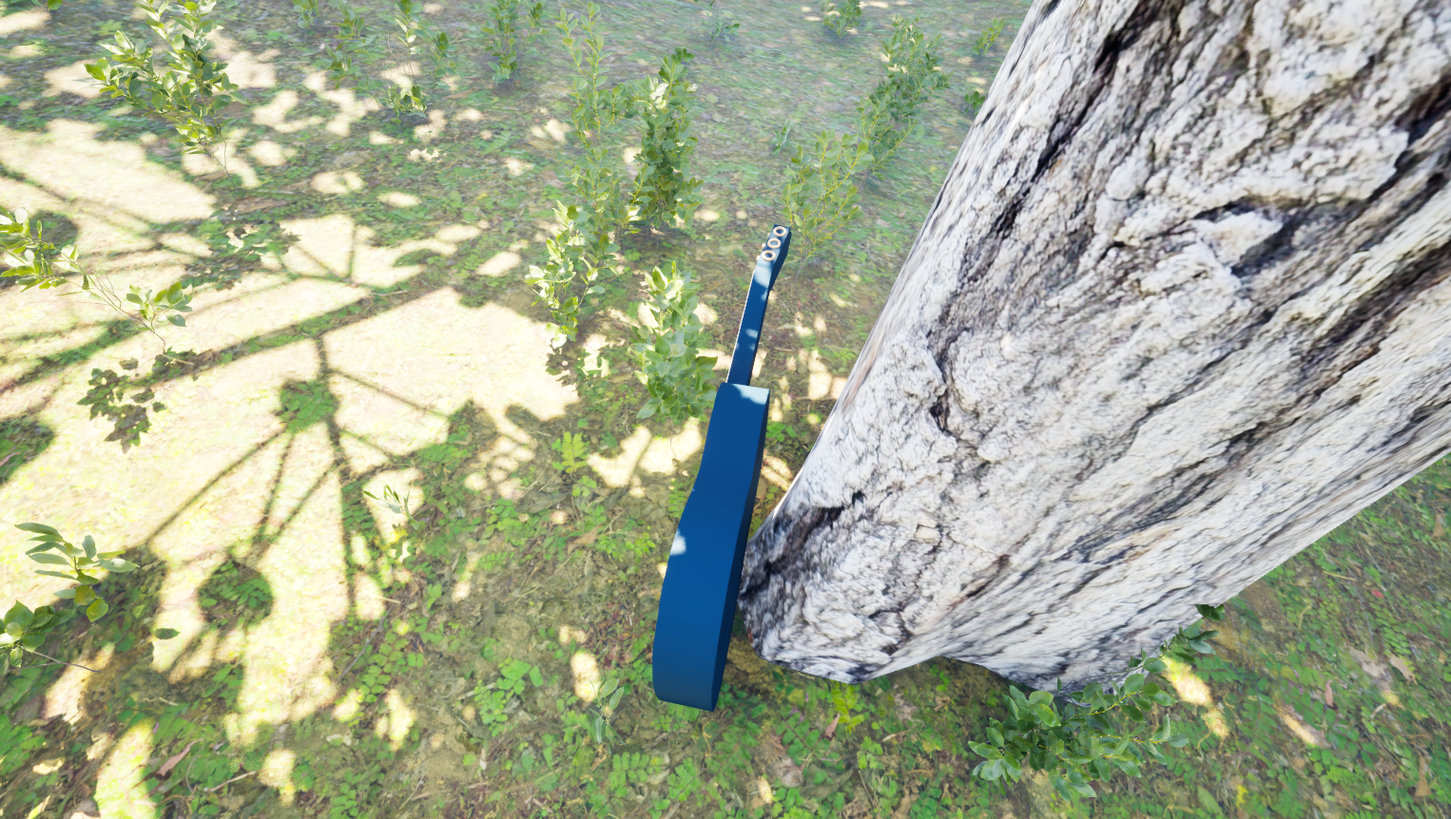Guitar: (395, 148, 1044, 750)
